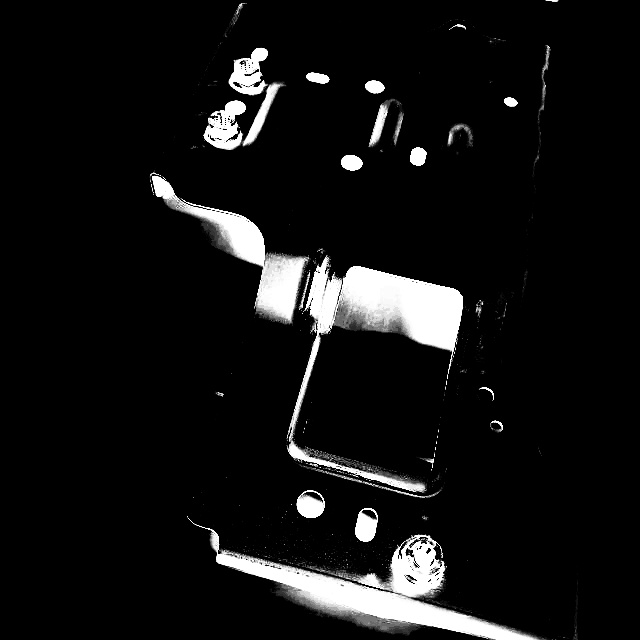dog: (391, 530, 447, 593), (202, 108, 243, 152), (226, 56, 268, 96)
